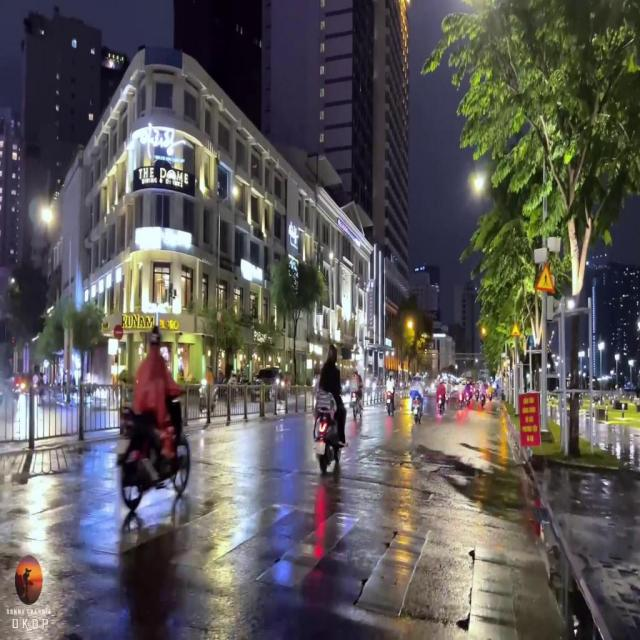cam_xe_di_nguoc_chieu: (114, 324, 124, 342)
chu_y_nguoi_di_bo_cat_ngang: (535, 261, 555, 293)
duong_co_song_map_mo_nhan_tao: (511, 321, 520, 336)
